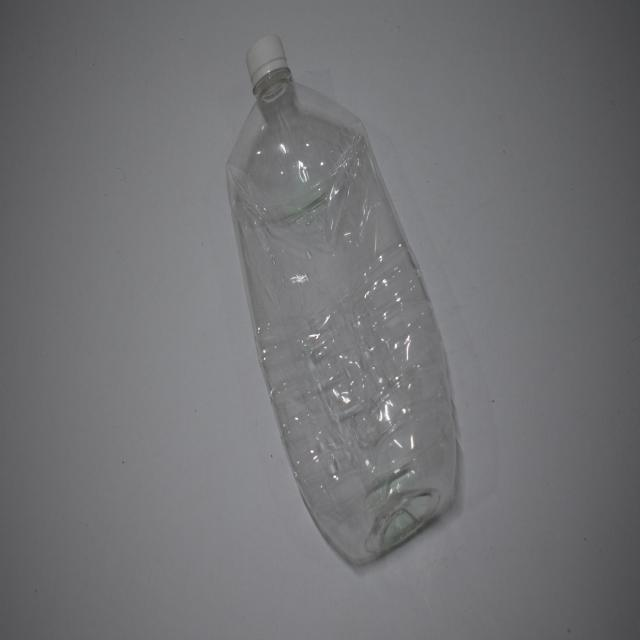bottle: (220, 18, 475, 594)
